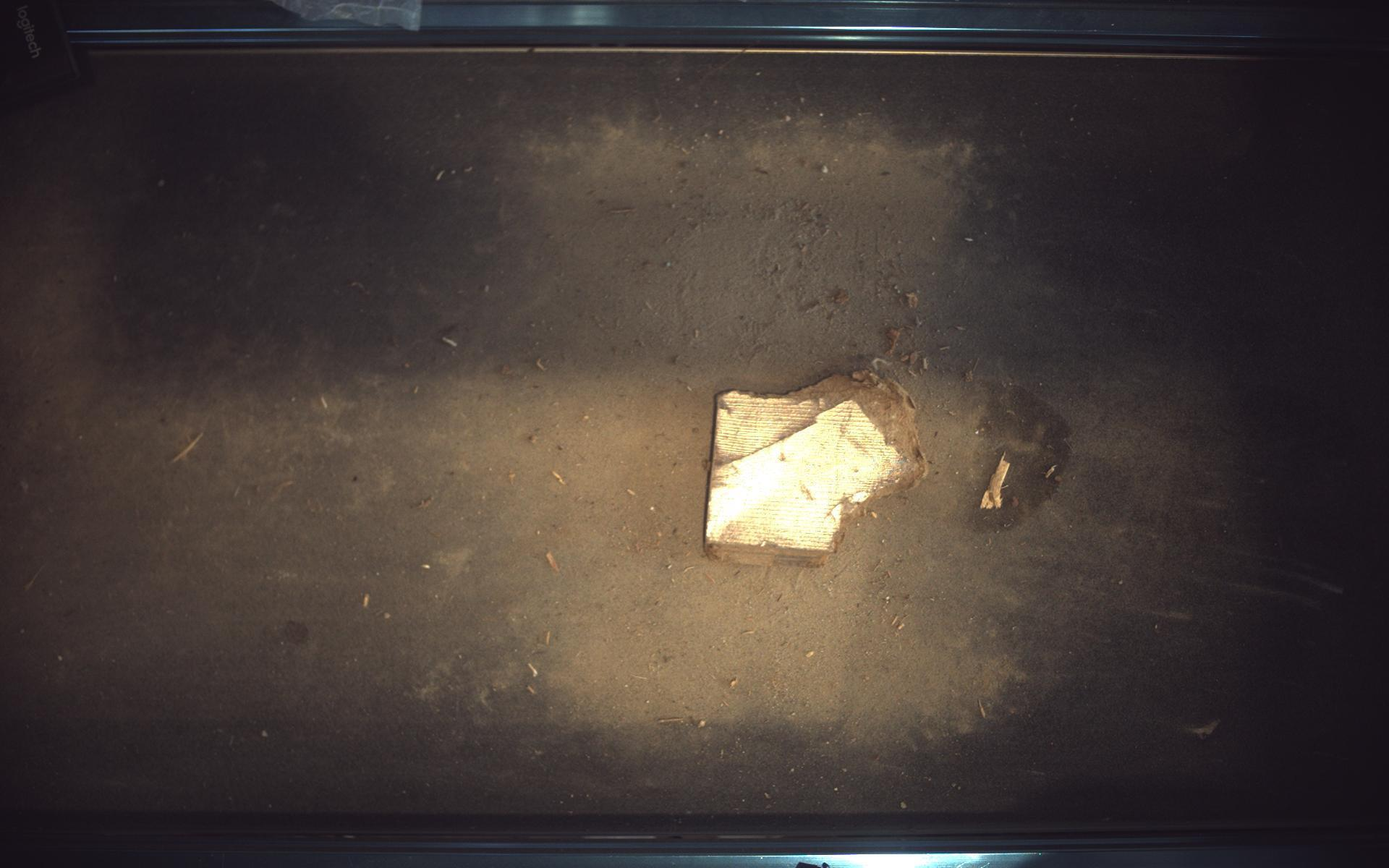wood: (705, 370, 930, 565)
